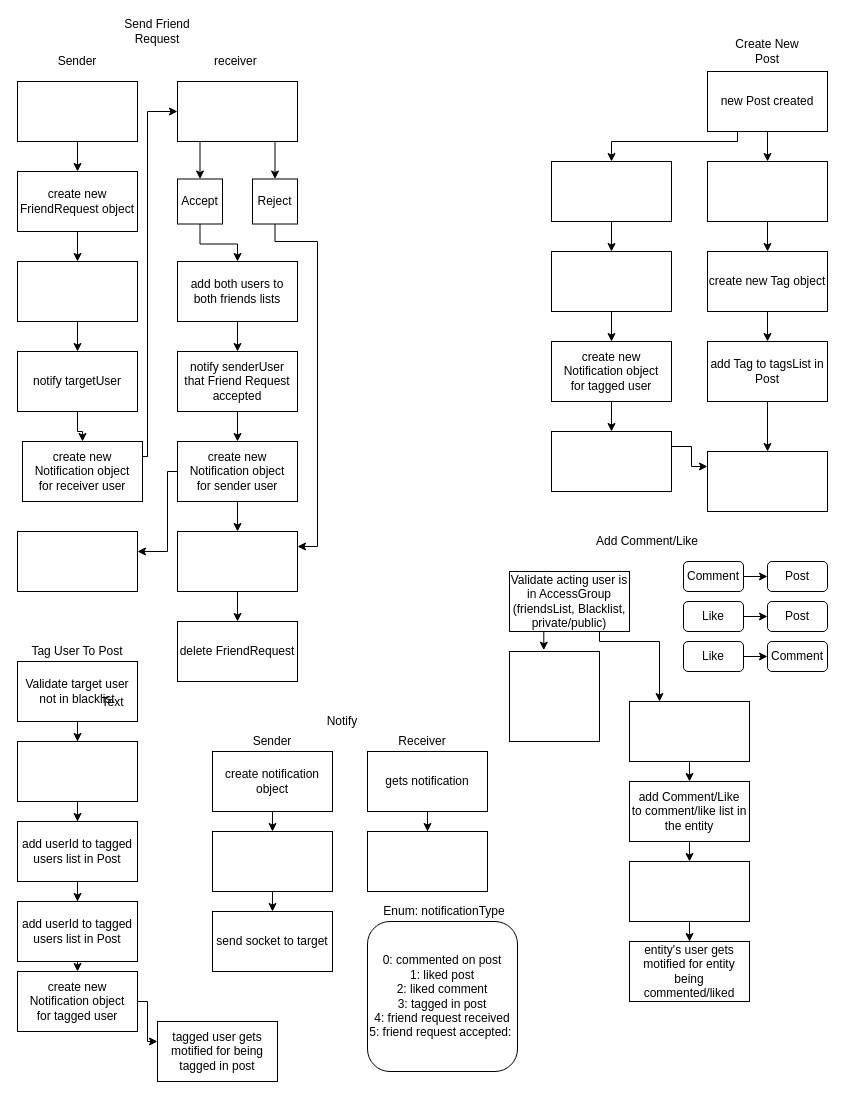
The diagram is 845 pixels wide and 1099 high, and some of its shapes have lost their labels. The centre of each missing label's shape, as x and y in pixels:
"add created friendRequestId to pendingFriendRequests of both users" belongs at point 77,291.
"add userId to taggedUsers list in Post" belongs at point 611,281.
"create Comment/Like object" belongs at point 689,731.
"create new Notification object for entity's user" belongs at point 689,891.
"delete references of the Friend Request from both users pendingFriendRequests" belongs at point 237,561.
"gets notified for accepted Friend Request" belongs at point 77,561.
"gets notified for being tagged in Post" belongs at point 611,461.
"gets notified for pending Friend Request" belongs at point 237,111.
"if a user tagged in post" belongs at point 611,191.
"if new Tag created" belongs at point 767,191.
"if not friends & no pending friend requests between both users" belongs at point 77,111.
"Like: validate if entity (post/comment) wasn't already liked by actiong user" belongs at point 554,696.
"post added to autgors posts list" belongs at point 767,481.
"push to targets notifications" belongs at point 272,861.
"validate user not already tagged in the post" belongs at point 77,771.
"when click on notification then isRead = true" belongs at point 427,861.
